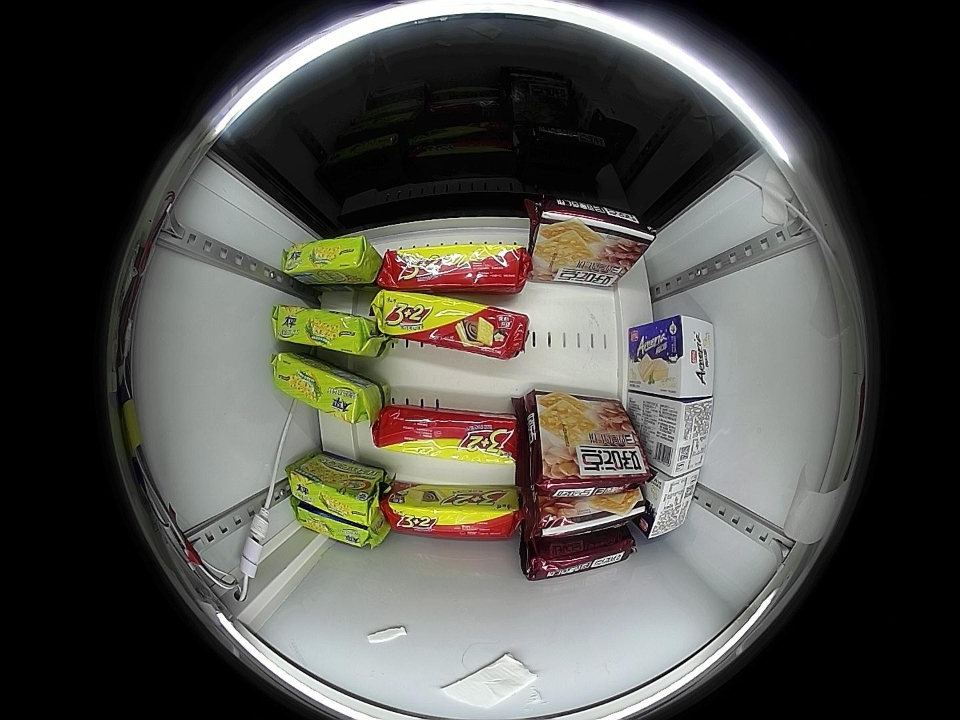3jia2: (373, 290, 524, 359), (375, 408, 518, 465), (385, 487, 519, 539), (379, 245, 527, 292)
haochidian: (526, 197, 657, 258), (532, 432, 650, 496), (528, 490, 645, 540), (521, 535, 634, 580)
meiniye: (649, 397, 714, 478), (655, 314, 714, 399), (639, 467, 700, 540)
taipingshuda: (270, 354, 369, 423), (273, 305, 377, 355), (288, 468, 377, 522), (281, 235, 378, 284), (294, 504, 386, 550)
